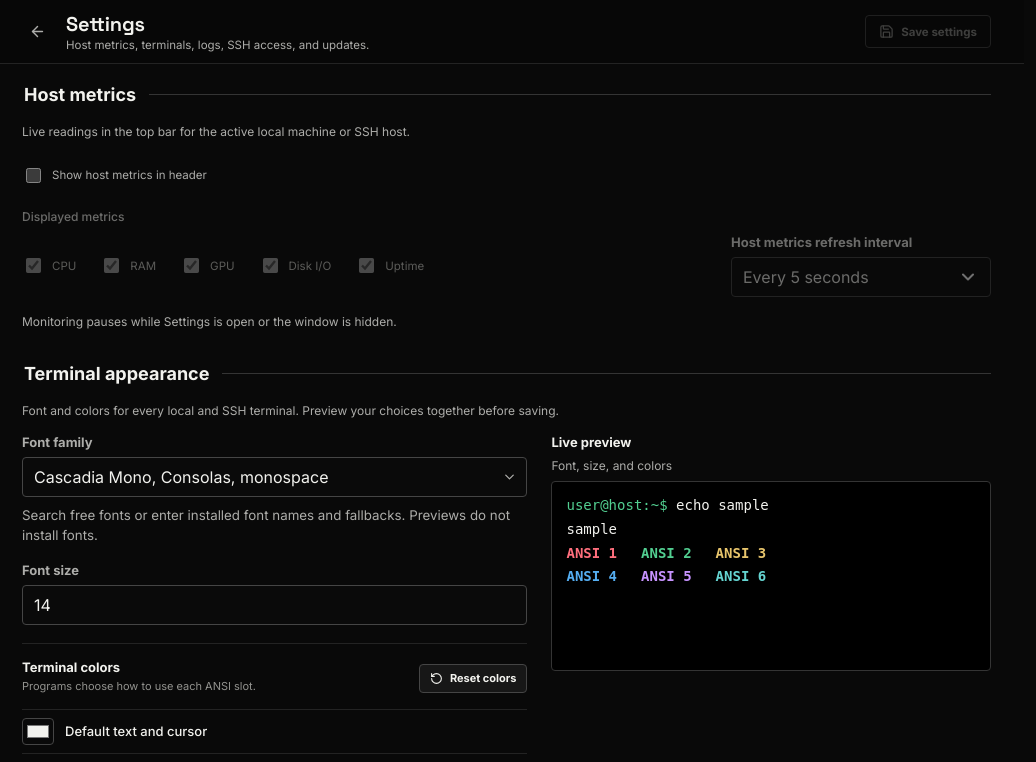
Test: Settings actions › reports the save next to the button and drops it on the next edit
Replace the text in the number field labelled "Font size" with "16". click: x=275, y=605
box: [22,585,528,625]
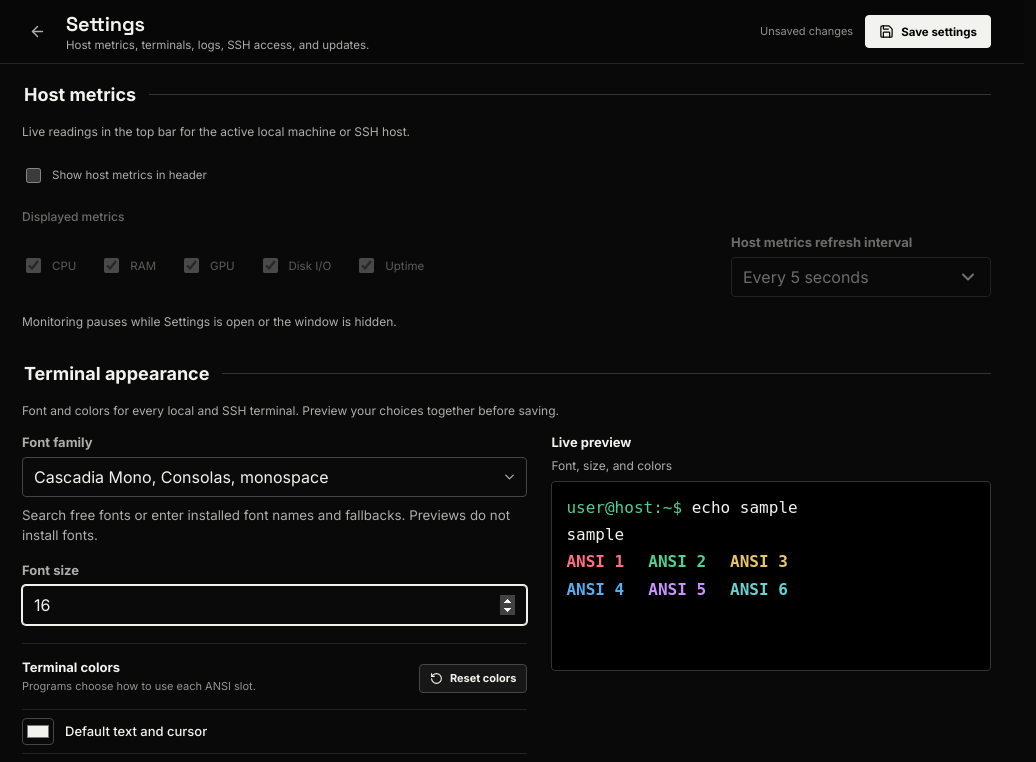
Click the button "Save settings". click: x=928, y=32
box: [865,15,991,48]
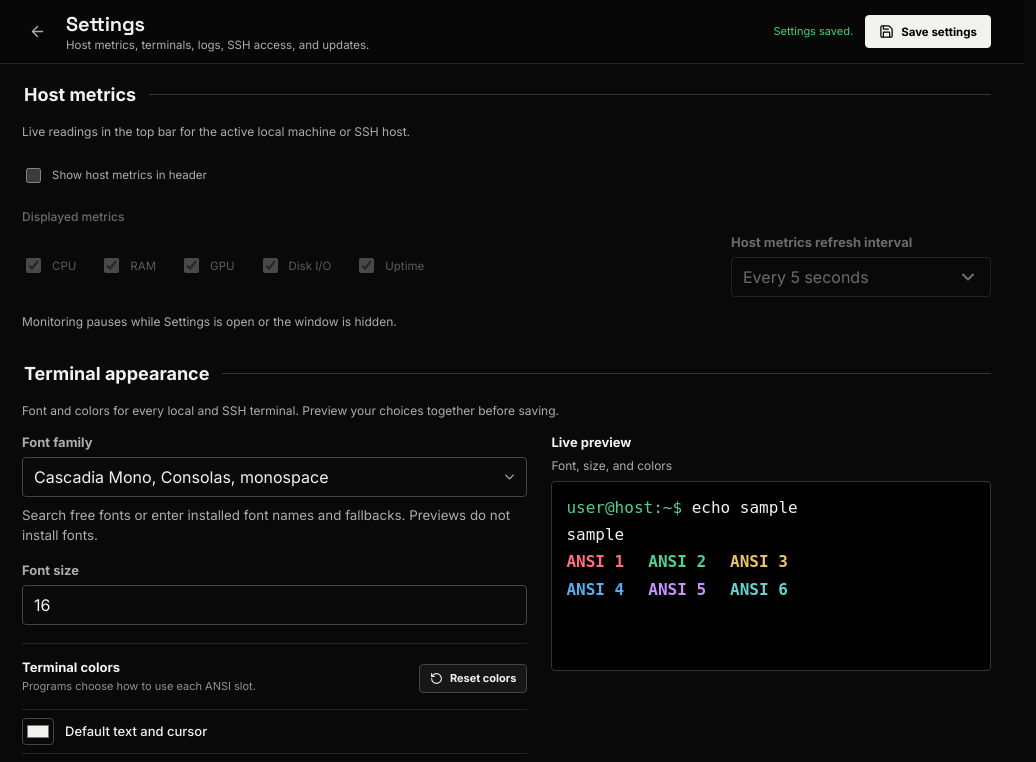
Expected: the text "Settings saved." is shown, [774,24,853,39]
Type "0" into the number field labelled "Font size". click: x=275, y=605
box: [22,585,528,625]
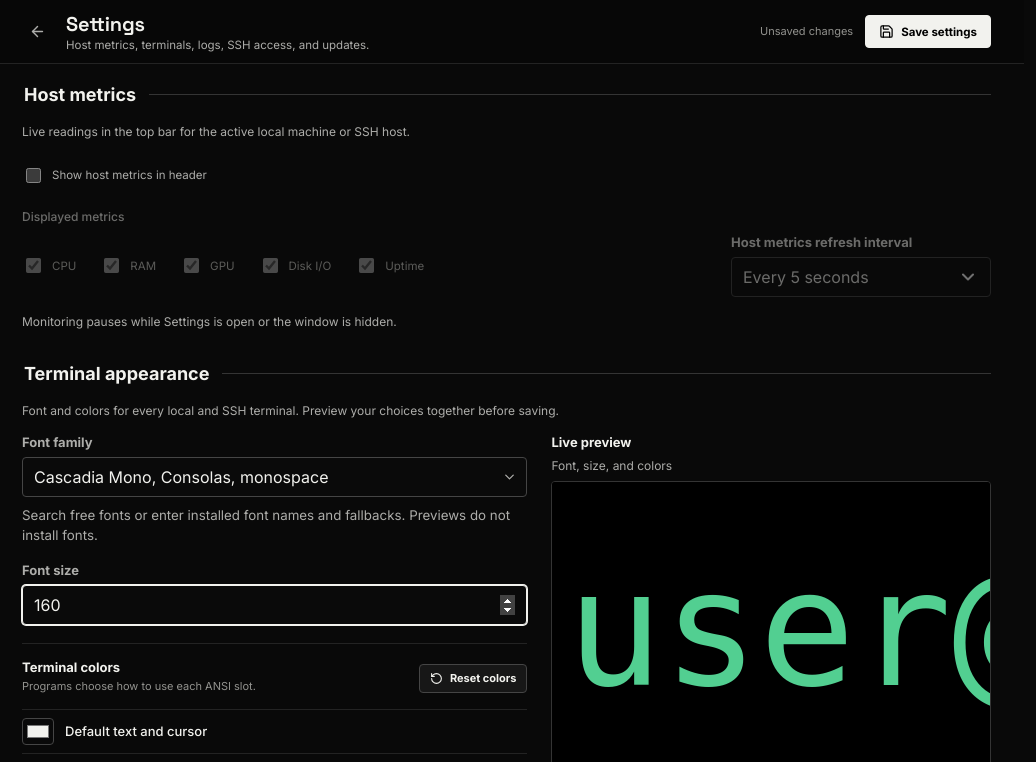
Expected: the text "Settings saved." is gone
